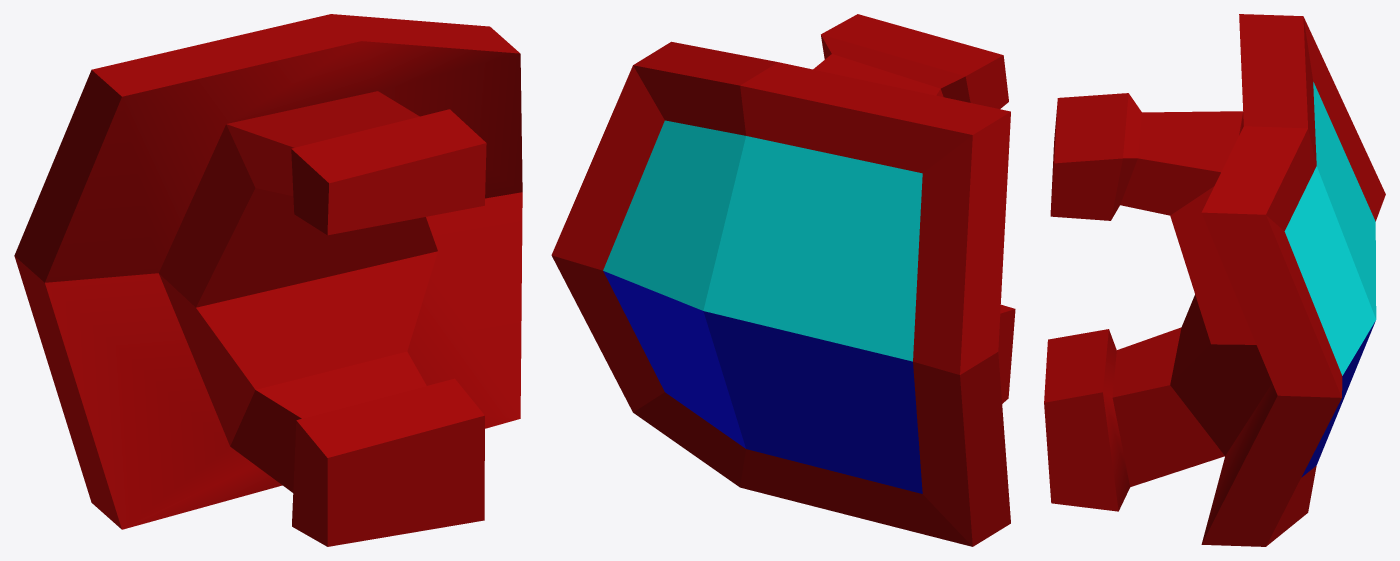
The model's file is Chr_ElbowAttachLeft_Static_06.fbx.
3 views of the same model, side by side, from view 1: azimuth 30°, elevation 25°; view 2: azimuth 150°, elevation 25°; view 3: azimuth 270°, elevation 25° (orthographic). The views are drawn at different scales.
Visible parts, largest first — view 1: Chr_ElbowAttachLeft_06; view 2: Chr_ElbowAttachLeft_06; view 3: Chr_ElbowAttachLeft_06.
Boxes of the visible parts, x1,y1,x2,y2 form: Chr_ElbowAttachLeft_06: (14, 14, 522, 546); Chr_ElbowAttachLeft_06: (551, 14, 1015, 546); Chr_ElbowAttachLeft_06: (1044, 14, 1385, 546).
Bounding box in the file's own units: 15.3 × 13.81 × 10.86.
